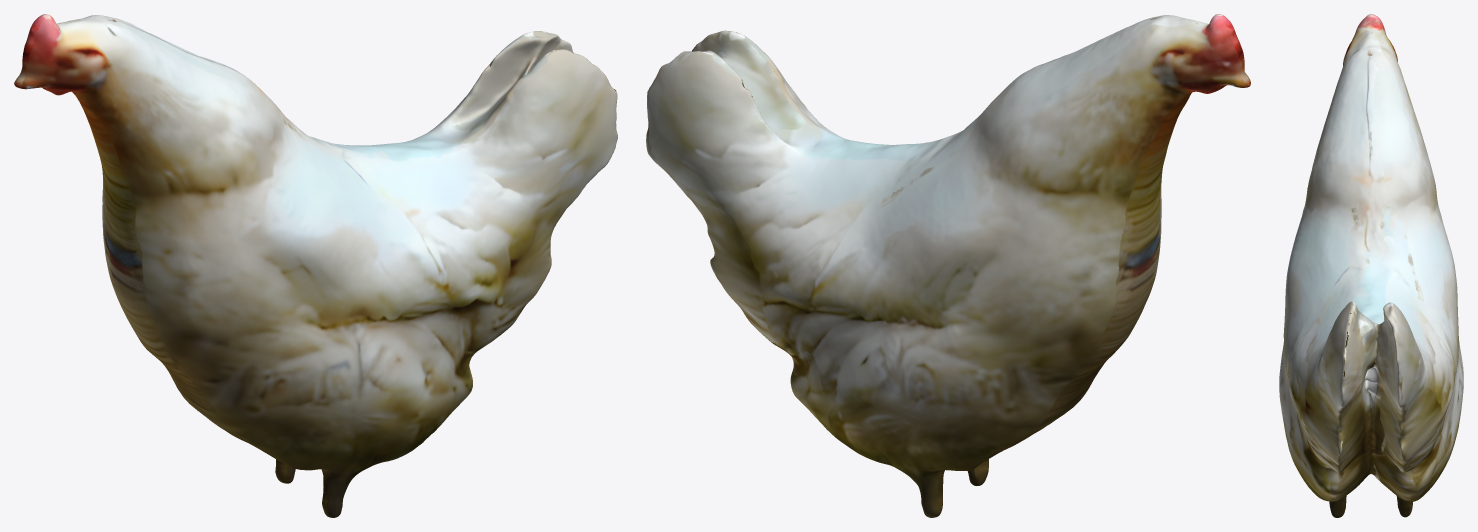
Rendered from adulto.glb.
The picture shows the model from 3 angles, left to right: view 1: azimuth 30°, elevation 25°; view 2: azimuth 150°, elevation 25°; view 3: azimuth 270°, elevation 25°; orthographic projection. The views are drawn at different scales.
Visible parts, largest first — view 1: mesh; view 2: mesh; view 3: mesh.
Part boxes in pixels (x1,y1,x2,y2): mesh: [14, 14, 617, 517]; mesh: [646, 14, 1250, 517]; mesh: [1279, 14, 1463, 517].
Size of the model in its own units: 1.56 by 1.41 by 0.5782.
Materials: 1 (1 with a texture image).
